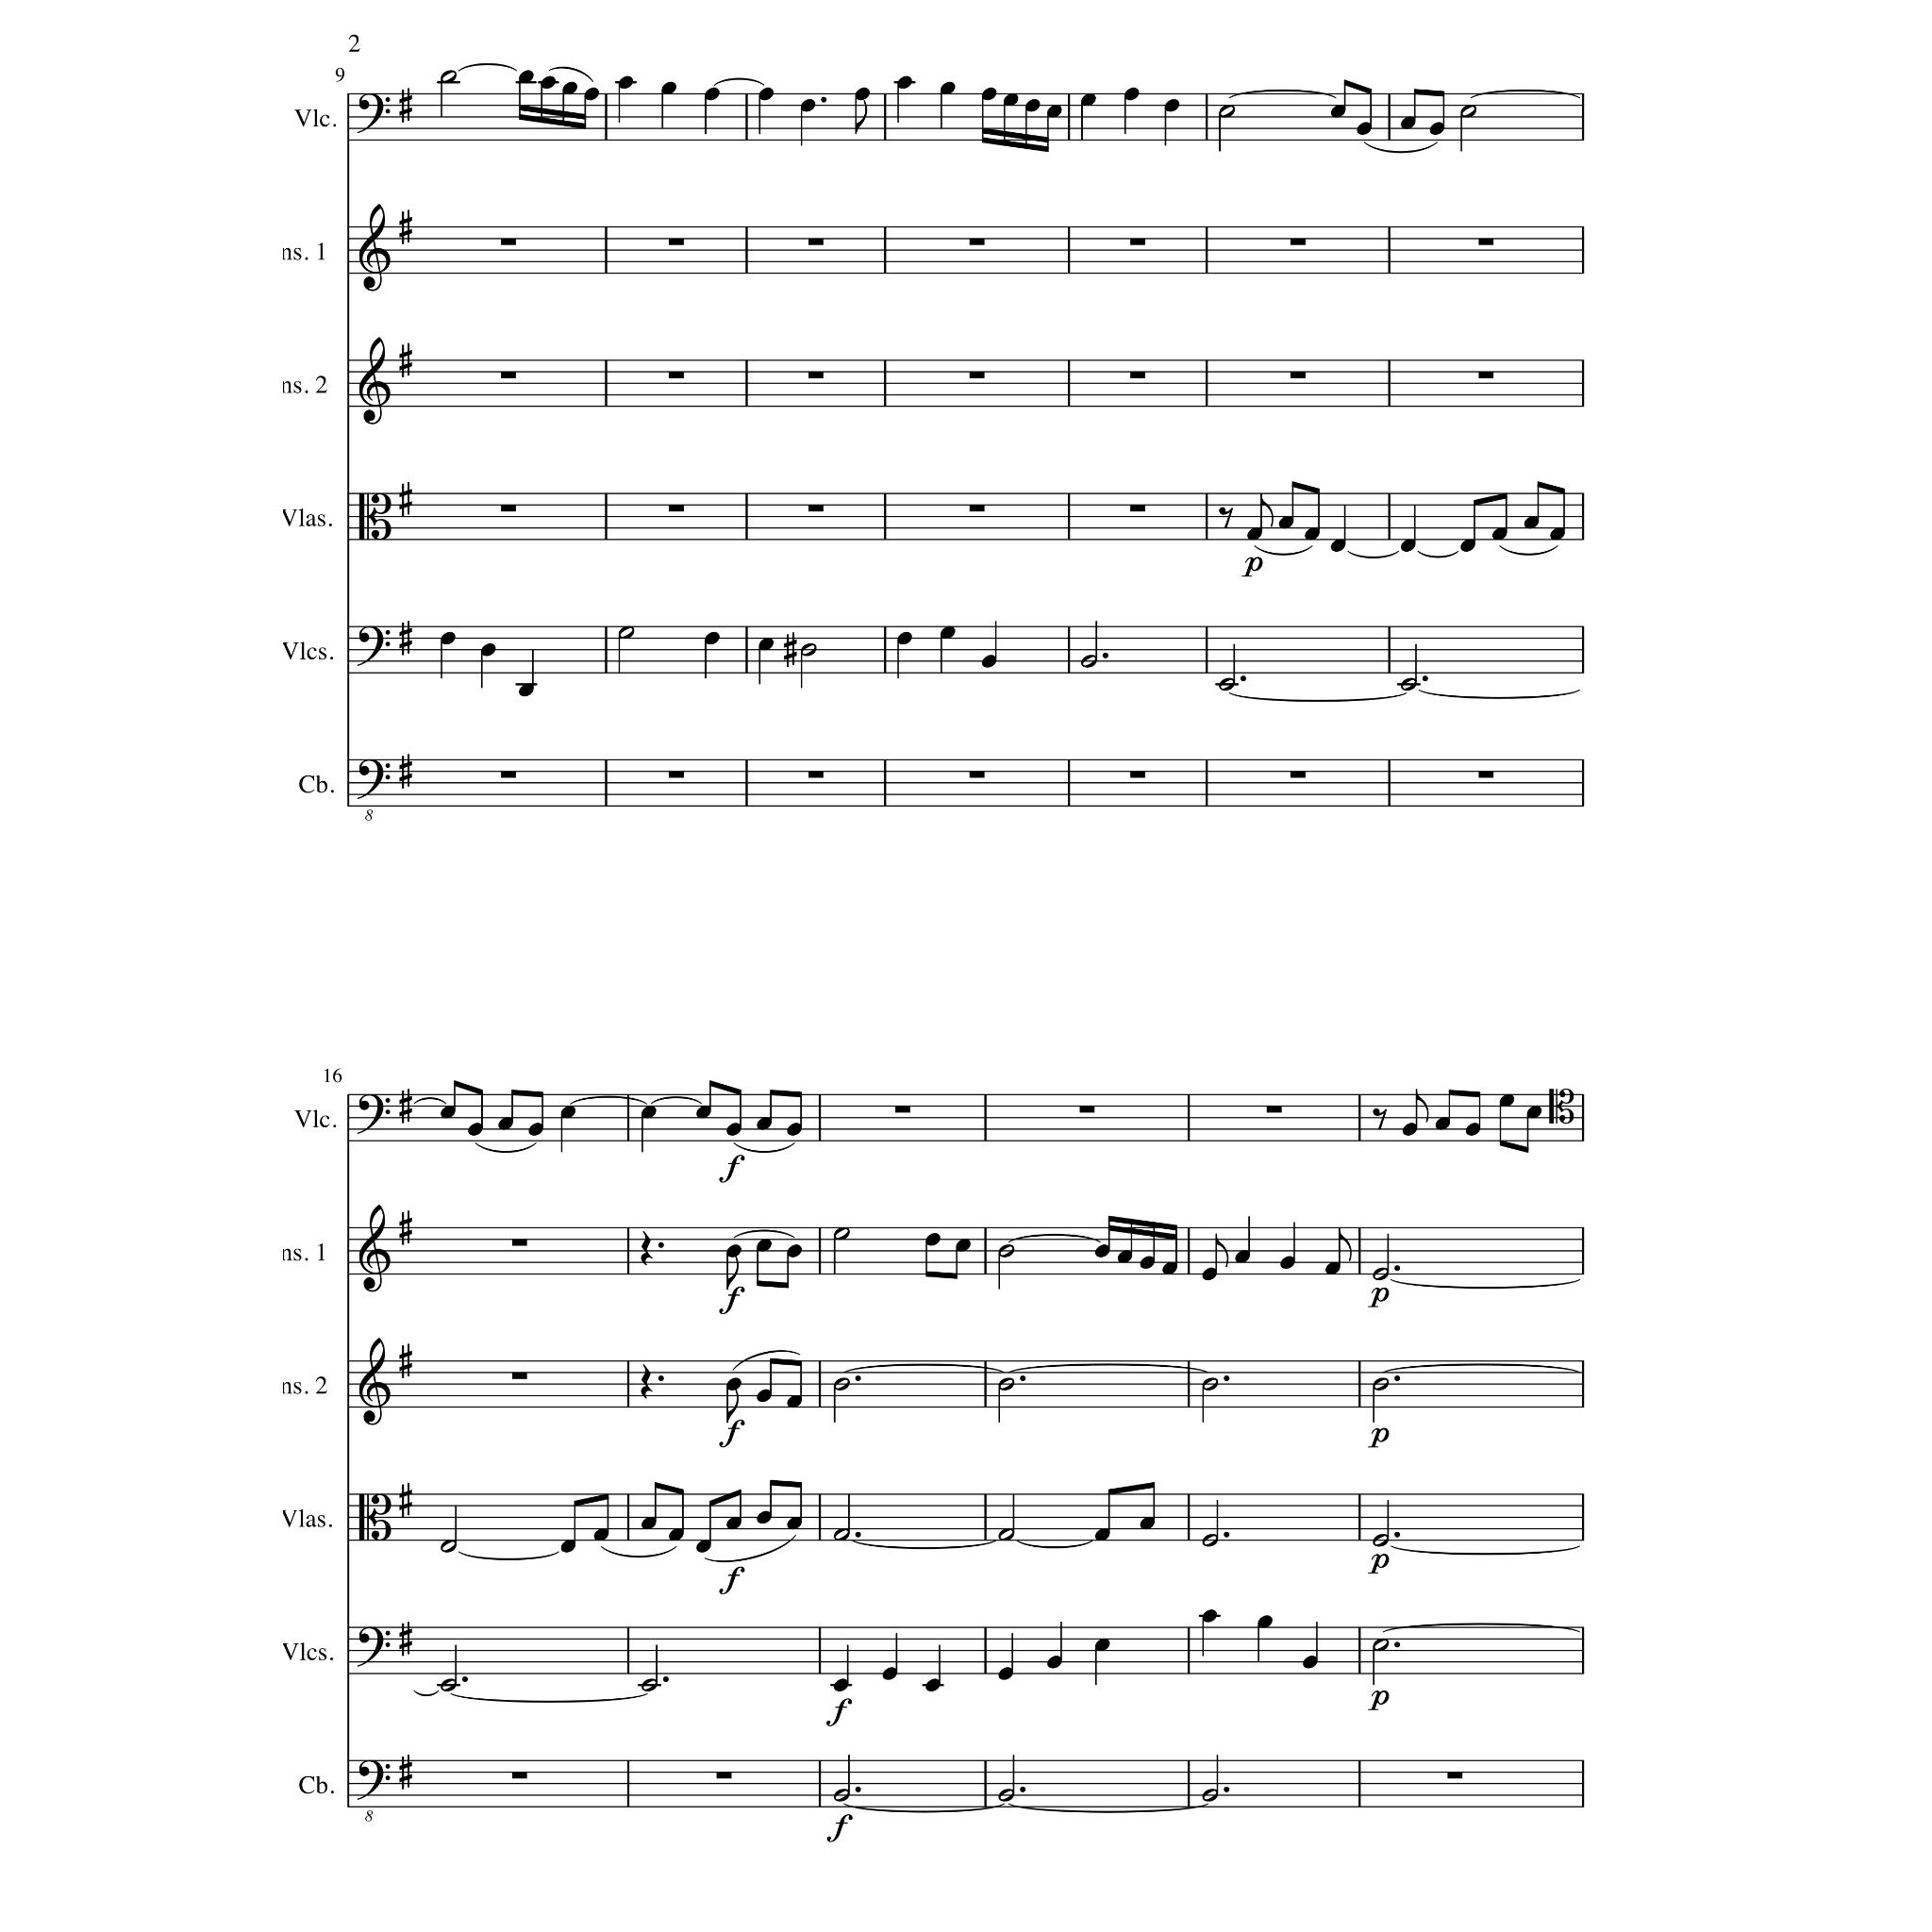fClef: (357, 626, 391, 667), (357, 759, 391, 800), (357, 1093, 391, 1134), (357, 1760, 391, 1801), (357, 94, 391, 133), (357, 1628, 391, 1667)
flag8thDown: (855, 101, 867, 134), (727, 1389, 740, 1422), (727, 1256, 740, 1290)
flag8thUp: (1415, 1088, 1430, 1123), (1260, 494, 1274, 527), (1215, 1233, 1228, 1269), (1339, 1228, 1352, 1261)
gClef: (359, 203, 391, 292), (359, 336, 391, 425), (359, 1203, 391, 1292), (359, 1338, 391, 1426)
noteheadBlack: (1355, 122, 1373, 136), (1525, 1106, 1543, 1120), (559, 1106, 577, 1120), (559, 1539, 577, 1553), (1246, 527, 1261, 541), (1401, 117, 1417, 131), (1401, 538, 1417, 552), (1277, 515, 1293, 529), (1304, 527, 1320, 541), (1330, 104, 1346, 119), (1330, 538, 1346, 552), (1523, 515, 1539, 529), (1550, 527, 1566, 541), (1460, 538, 1476, 552), (1491, 527, 1507, 541), (1430, 122, 1445, 136), (617, 76, 633, 90), (540, 76, 556, 90), (563, 81, 579, 96), (662, 81, 678, 96), (704, 632, 720, 646), (757, 637, 773, 651), (441, 632, 456, 646), (939, 81, 955, 96), (939, 626, 955, 640), (897, 632, 913, 646), (1047, 104, 1063, 119), (980, 655, 996, 669), (897, 76, 913, 90), (1235, 1249, 1251, 1263), (1279, 1256, 1295, 1270), (1139, 1256, 1155, 1270), (1139, 1516, 1155, 1530), (1162, 1261, 1178, 1276), (1093, 1244, 1109, 1258), (1093, 1638, 1109, 1652), (1201, 1267, 1217, 1281), (1116, 1249, 1132, 1263), (1323, 1261, 1339, 1276), (1435, 1116, 1451, 1131), (640, 1516, 656, 1530), (640, 1106, 656, 1120), (695, 1106, 711, 1120), (695, 1539, 711, 1553), (497, 1116, 513, 1131), (441, 1106, 456, 1120), (955, 1238, 971, 1253), (998, 1667, 1014, 1681), (881, 1667, 897, 1681), (755, 1389, 771, 1403), (755, 1511, 771, 1525), (755, 1238, 771, 1253), (755, 1116, 771, 1131), (725, 1244, 741, 1258), (786, 1244, 801, 1258), (786, 1516, 801, 1530), (725, 1516, 741, 1530), (517, 71, 534, 83), (517, 685, 534, 697), (1256, 1615, 1274, 1628), (1123, 88, 1139, 101), (1164, 99, 1180, 111), (584, 88, 600, 101), (704, 88, 720, 101), (757, 88, 773, 101), (479, 644, 495, 656), (1024, 99, 1040, 111), (1079, 94, 1095, 106), (980, 88, 996, 101), (1003, 94, 1019, 106), (800, 99, 816, 111), (855, 88, 870, 101), (1201, 1610, 1217, 1622), (1302, 1656, 1318, 1668), (1047, 1656, 1063, 1668), (1093, 1529, 1109, 1541), (1401, 1123, 1417, 1136), (1465, 1123, 1481, 1136), (1499, 1095, 1514, 1108), (593, 1529, 609, 1541), (667, 1529, 683, 1541), (467, 1123, 483, 1136), (527, 1123, 543, 1136), (833, 1679, 849, 1691), (925, 1233, 941, 1246), (925, 1679, 941, 1691), (725, 1123, 741, 1136), (725, 1378, 741, 1391), (786, 1123, 801, 1136), (786, 1396, 801, 1408)
noteheadHalf: (1399, 678, 1417, 692), (1217, 104, 1235, 119), (1217, 678, 1235, 692), (617, 626, 635, 640), (1371, 1267, 1389, 1281), (1371, 1638, 1389, 1652), (439, 1539, 456, 1553), (998, 1244, 1016, 1258), (1460, 104, 1476, 119), (1081, 655, 1097, 669), (439, 71, 456, 83), (800, 644, 817, 656), (1201, 1378, 1219, 1391), (1201, 1789, 1219, 1801), (1201, 1534, 1219, 1546), (1371, 1378, 1389, 1391), (1371, 1534, 1389, 1546), (640, 1679, 658, 1691), (439, 1679, 456, 1691), (998, 1378, 1016, 1391), (998, 1529, 1016, 1541), (998, 1789, 1016, 1801), (833, 1228, 849, 1240), (833, 1529, 849, 1541), (833, 1789, 849, 1801), (833, 1378, 849, 1391)
rest8th: (1217, 506, 1233, 529), (1371, 1109, 1387, 1131)
restQuarter: (640, 1362, 653, 1399), (640, 1231, 653, 1265)
restWhole: (669, 504, 685, 513), (968, 504, 984, 513), (1131, 504, 1146, 513), (809, 504, 824, 513), (501, 504, 517, 513), (715, 1771, 731, 1780), (511, 1371, 527, 1380), (511, 1771, 527, 1780), (1447, 1771, 1463, 1780), (669, 771, 685, 778), (669, 239, 685, 246), (669, 372, 685, 379), (968, 771, 984, 778), (1290, 771, 1306, 778), (1290, 372, 1306, 379), (1290, 239, 1306, 246), (1131, 771, 1146, 778), (1131, 372, 1146, 379), (809, 239, 824, 246), (809, 372, 824, 379), (968, 372, 984, 379), (809, 771, 824, 778), (1131, 239, 1146, 246), (968, 239, 984, 246), (1477, 239, 1493, 246), (1477, 372, 1493, 379), (1477, 771, 1493, 778), (501, 771, 517, 778), (501, 239, 517, 246), (501, 372, 517, 379), (1265, 1106, 1281, 1113), (1079, 1106, 1095, 1113), (895, 1106, 911, 1113), (511, 1238, 527, 1246)
